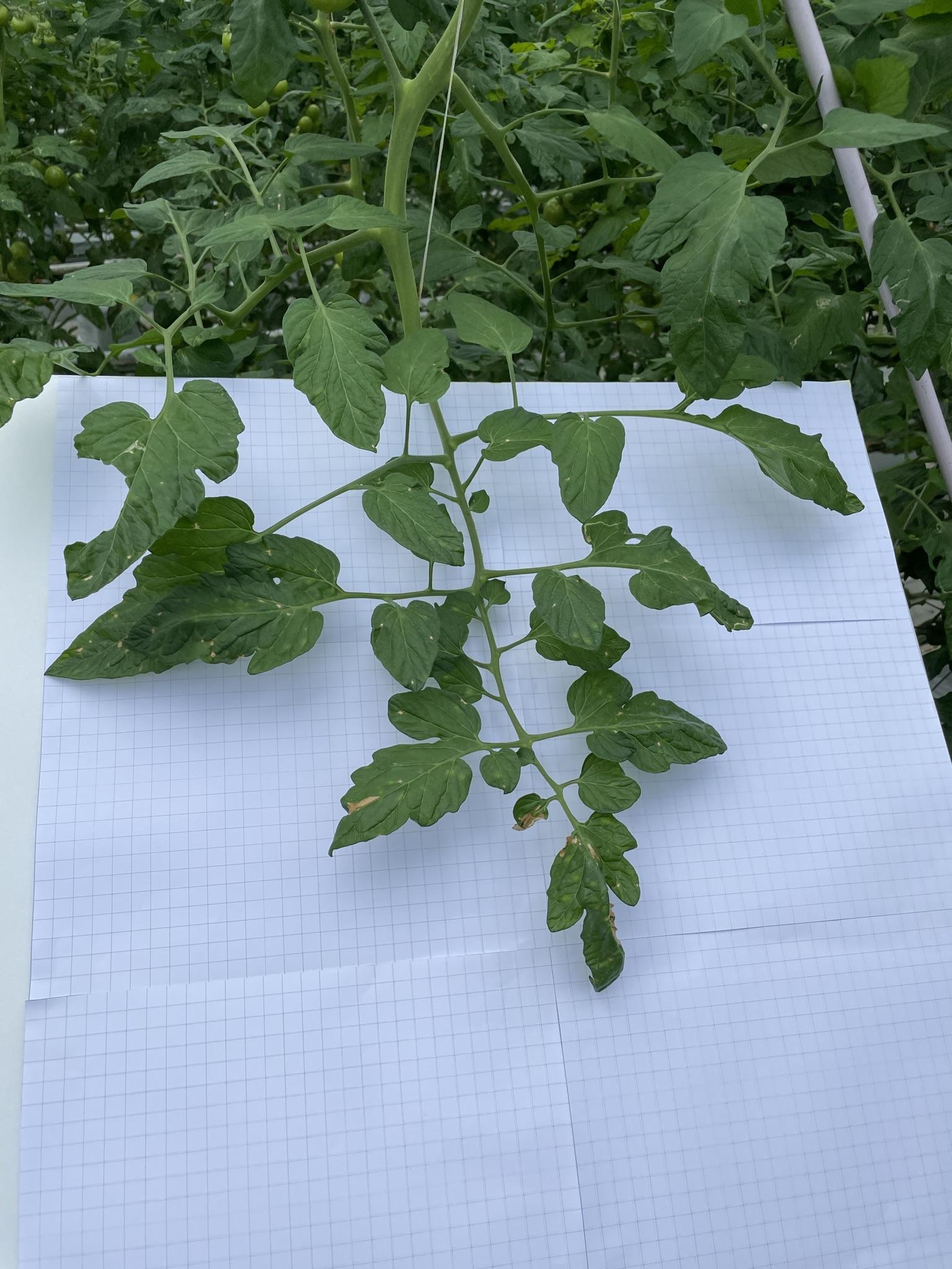Healthy: (630, 151, 788, 401), (713, 403, 866, 517), (280, 292, 386, 454), (362, 471, 465, 566), (549, 412, 626, 523), (227, 0, 299, 109), (583, 105, 683, 171), (446, 290, 535, 357), (817, 105, 949, 150), (379, 325, 452, 405), (673, 0, 749, 76), (405, 207, 476, 286), (129, 150, 221, 195), (577, 752, 642, 815), (0, 280, 133, 309), (326, 193, 417, 234), (281, 131, 382, 162), (512, 127, 596, 163), (195, 215, 274, 250), (833, 0, 926, 26), (576, 215, 626, 257), (65, 257, 149, 281), (181, 324, 235, 349), (190, 277, 226, 305), (451, 203, 483, 234)
Leaf_Miner: (580, 508, 757, 633), (870, 214, 952, 383), (780, 277, 864, 374), (119, 432, 155, 465)
